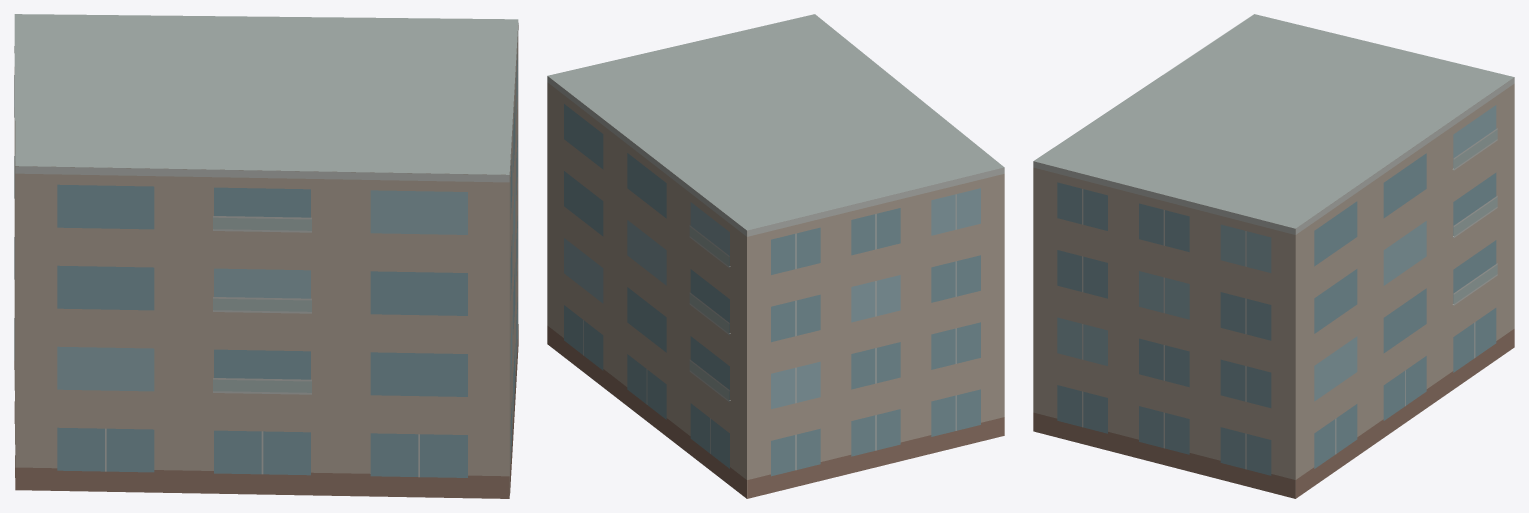
Rendered from survey-upis-32737414.glb.
3 views of the same model, side by side, from view 1: azimuth 30°, elevation 25°; view 2: azimuth 150°, elevation 25°; view 3: azimuth 270°, elevation 25° (orthographic). The views are drawn at different scales.
Visible parts, largest first — view 1: survey-upis-32737414.tmp; view 2: survey-upis-32737414.tmp; view 3: survey-upis-32737414.tmp.
Boxes of the visible parts, x1,y1,x2,y2 form: survey-upis-32737414.tmp: (14, 14, 518, 498); survey-upis-32737414.tmp: (547, 14, 1004, 498); survey-upis-32737414.tmp: (1033, 14, 1514, 498).
Bounding box in the file's own units: 17.74 × 10.4 × 16.8.
